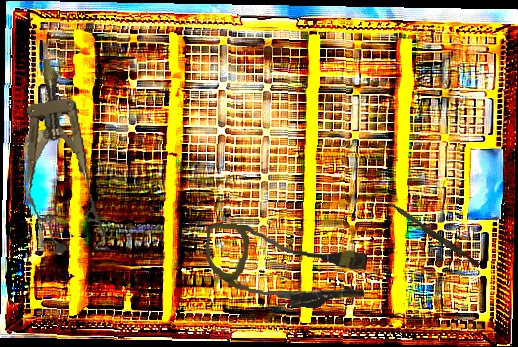Cannula: (202, 222, 369, 312)
Pusher: (383, 200, 483, 268)
Speculum: (8, 53, 112, 261)
